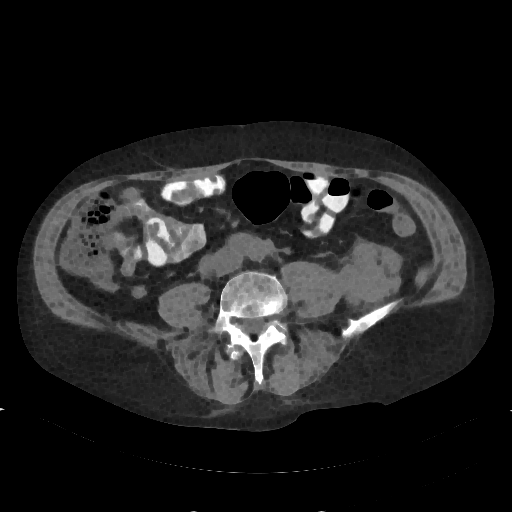Lesion: (341, 238, 405, 309)
